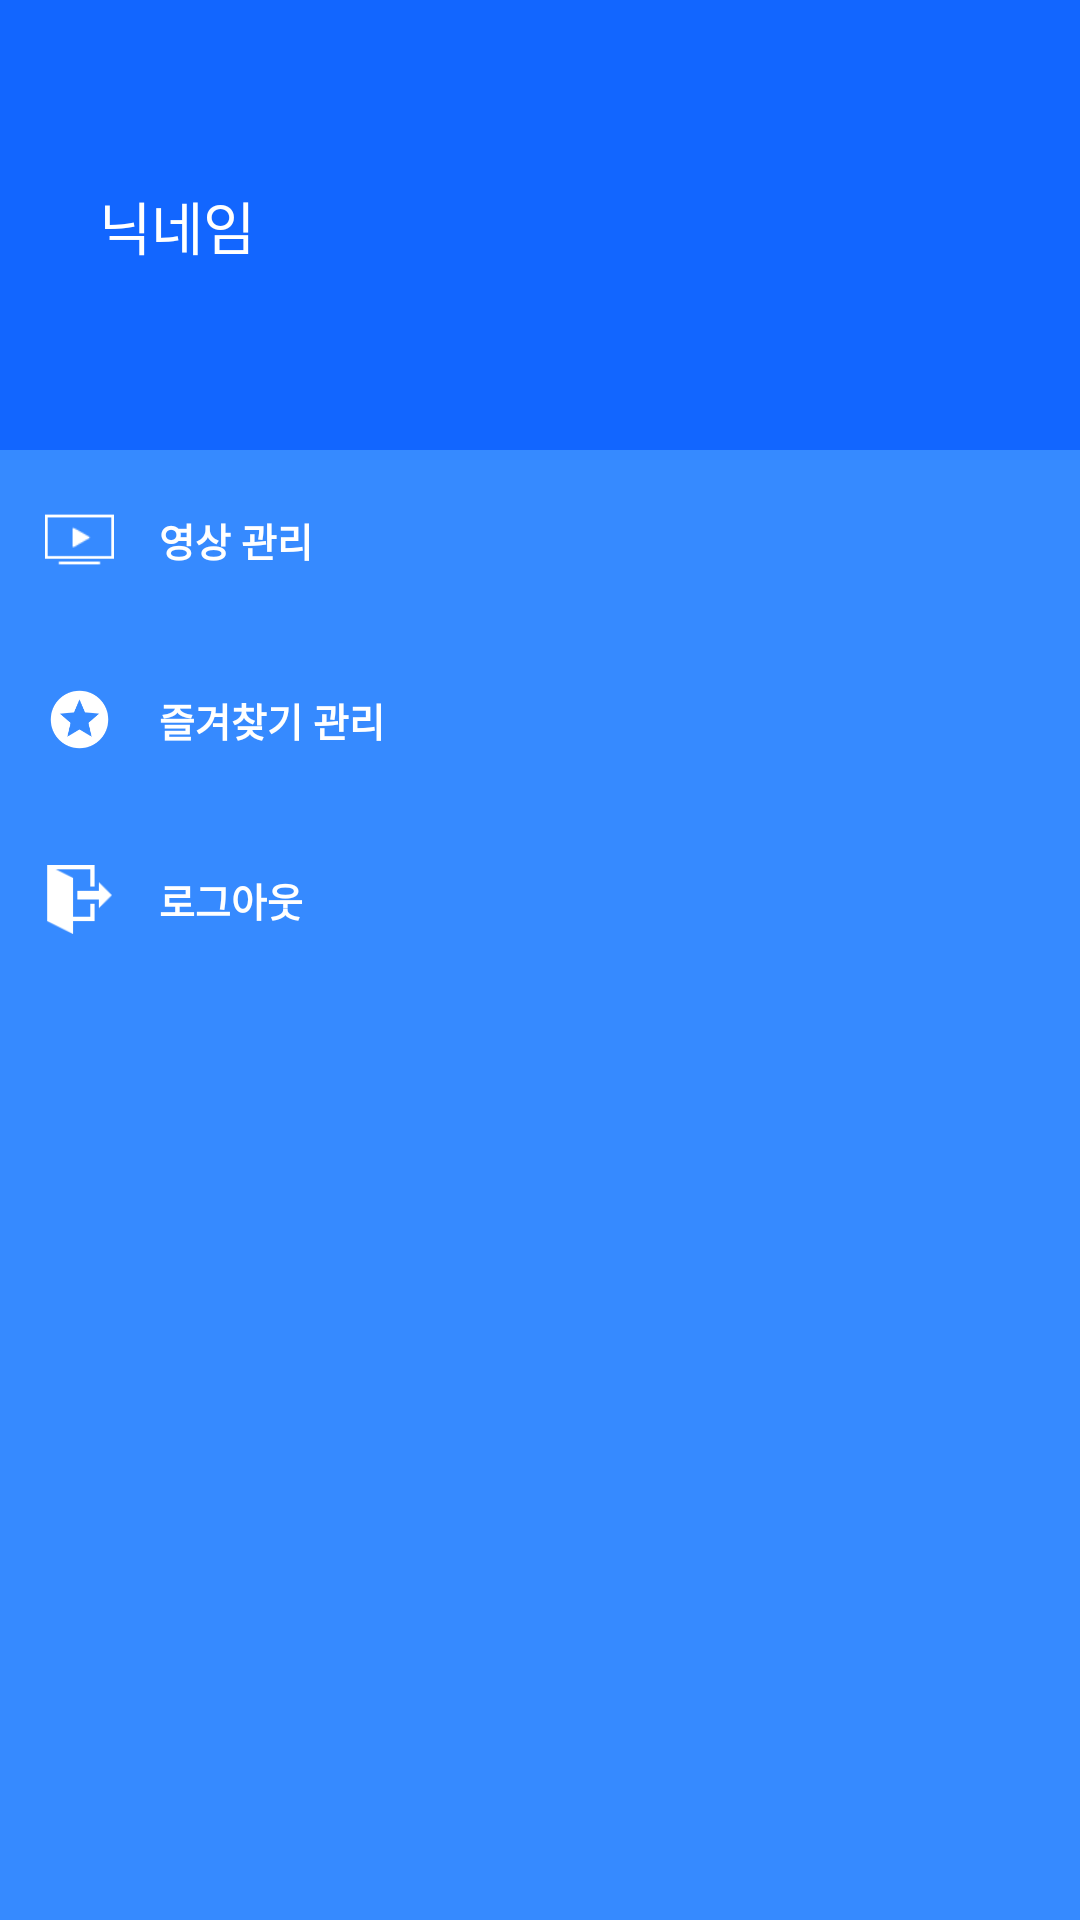

Named icons in this screenshot (1080px×1920px) and their centers, point (x, y):
bookmark no: point (79, 719)
exit: point (79, 899)
video: point (79, 539)
